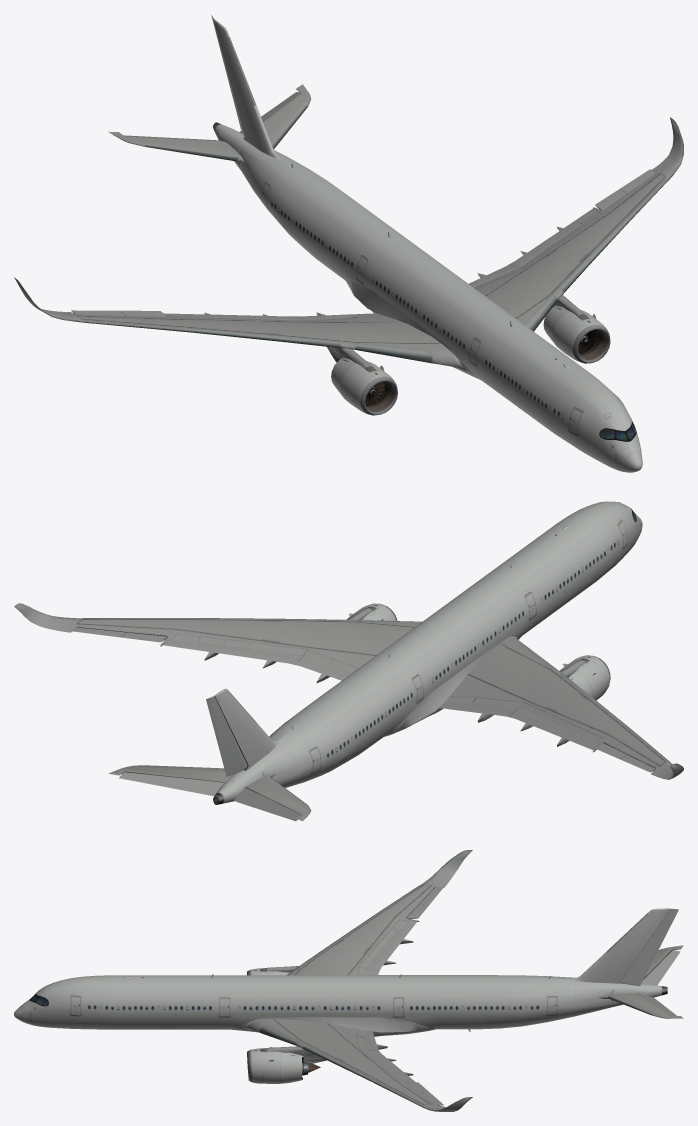
The picture shows the model from 3 angles, top to bottom: view 1: azimuth 30°, elevation 25°; view 2: azimuth 150°, elevation 25°; view 3: azimuth 270°, elevation 25°; orthographic projection. The views are drawn at different scales.
Parts seen in each view (by area): view 1: Object_9; view 2: Object_9; view 3: Object_9.
Part boxes in pixels (box(x1,y1,x2,y2)): Object_9: box(14, 15, 683, 472); Object_9: box(14, 501, 683, 821); Object_9: box(14, 850, 683, 1111).
Bounding box in the file's own units: 64.74 × 16.5 × 74.12.
Materials: 2 (2 with a texture image).
